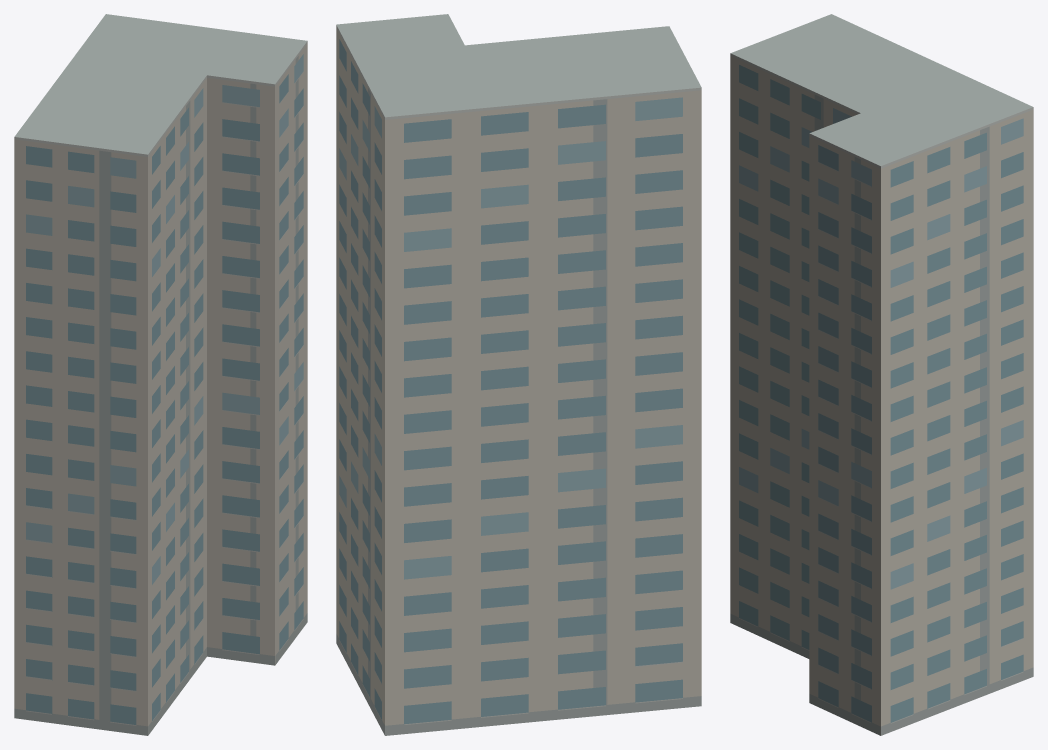
File: residential-42ac8ab5-39bc-48d1-9454-f8e552a9ec10.glb
3 renders of one model, left to right at view 1: azimuth 30°, elevation 25°; view 2: azimuth 150°, elevation 25°; view 3: azimuth 270°, elevation 25°, orthographic. The views are drawn at different scales.
Visible parts, largest first — view 1: residential-42ac8ab5-39bc-48d1-9454-f8e552a9ec10.tmp; view 2: residential-42ac8ab5-39bc-48d1-9454-f8e552a9ec10.tmp; view 3: residential-42ac8ab5-39bc-48d1-9454-f8e552a9ec10.tmp.
Part boxes in pixels (<box>): residential-42ac8ab5-39bc-48d1-9454-f8e552a9ec10.tmp: <box>14,14,307,735</box>; residential-42ac8ab5-39bc-48d1-9454-f8e552a9ec10.tmp: <box>336,14,701,735</box>; residential-42ac8ab5-39bc-48d1-9454-f8e552a9ec10.tmp: <box>730,14,1033,735</box>.
Size of the model in its own units: 32.68 by 57 by 27.49.
